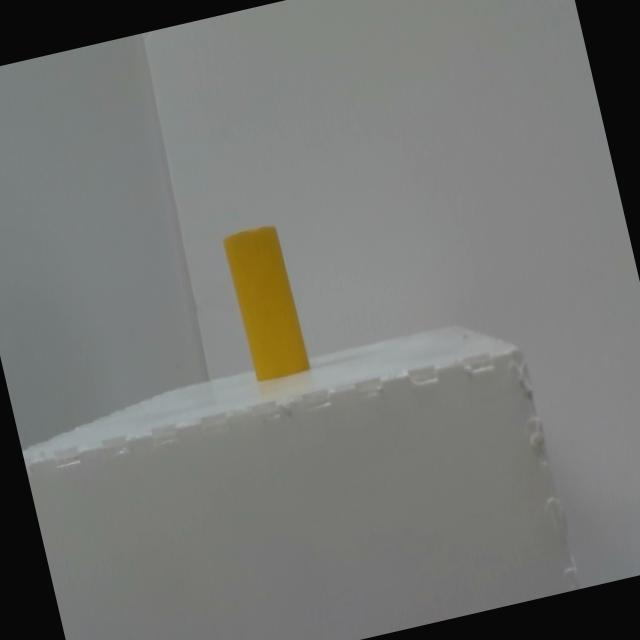yellow_cylinder: (222, 223, 310, 381)
